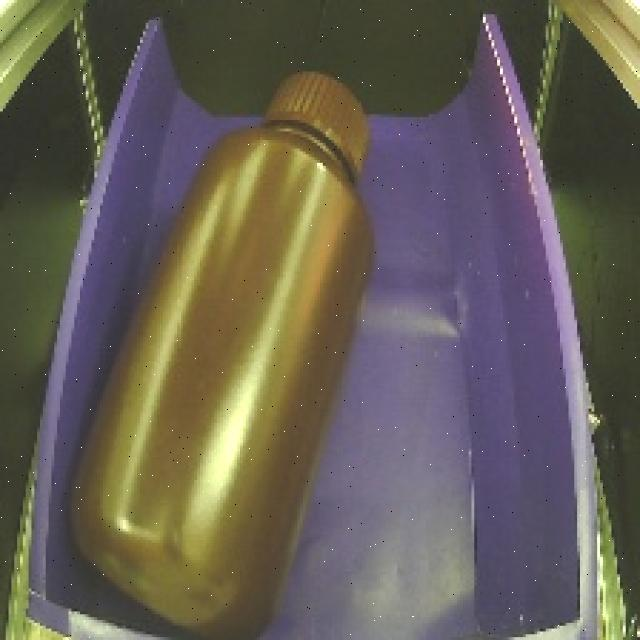plastic: (57, 48, 394, 640)
